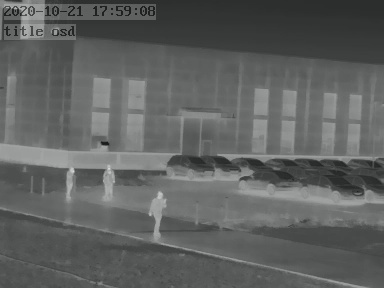person: (149, 187, 167, 236), (101, 164, 116, 197), (64, 165, 77, 199)
vehicle: (300, 170, 362, 199), (239, 170, 303, 191), (166, 153, 213, 179), (353, 174, 384, 203), (205, 153, 242, 177), (232, 154, 270, 171), (262, 155, 296, 170), (348, 156, 381, 170), (317, 156, 348, 170), (295, 155, 325, 169)
